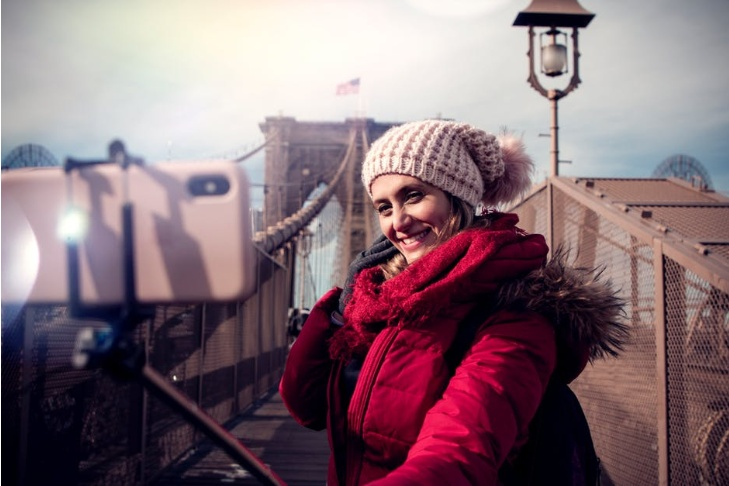face: (370, 176, 452, 264)
